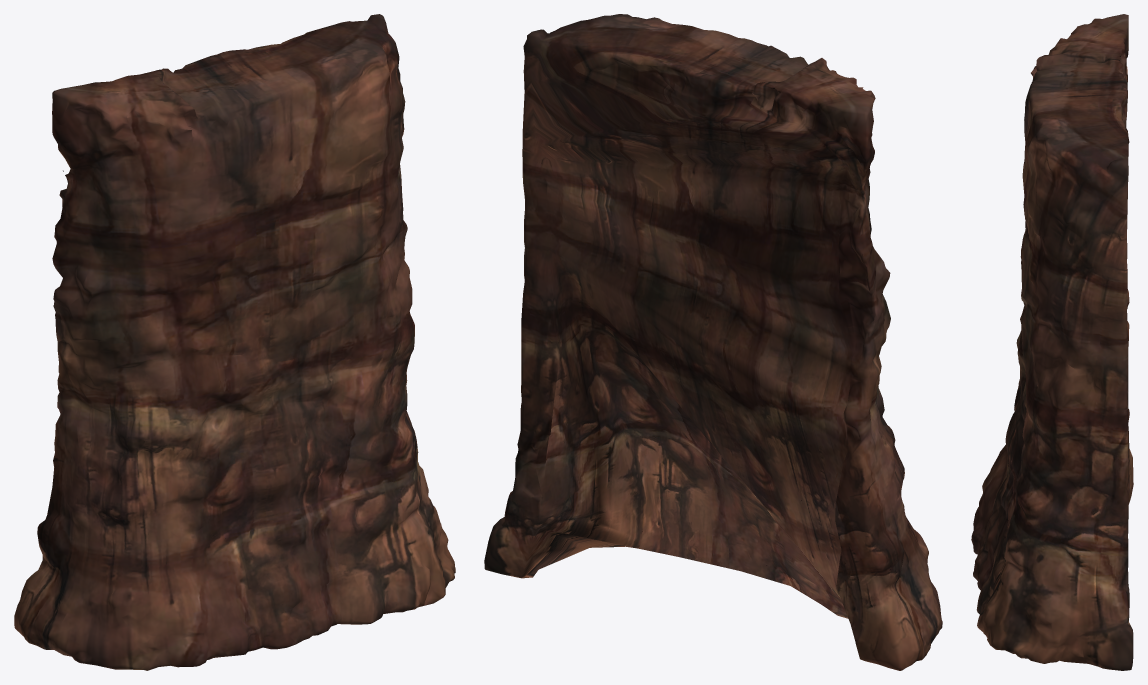
The model's file is Wall_10m.fbx.
The picture shows the model from 3 angles, left to right: view 1: azimuth 30°, elevation 25°; view 2: azimuth 150°, elevation 25°; view 3: azimuth 270°, elevation 25°; orthographic projection. The views are drawn at different scales.
Parts seen in each view (by area): view 1: Wall_10m; view 2: Wall_10m; view 3: Wall_10m.
Boxes of the visible parts, x1,y1,x2,y2 form: Wall_10m: [14, 14, 455, 670]; Wall_10m: [484, 14, 942, 670]; Wall_10m: [971, 14, 1133, 670].
Size of the model in its own units: 1225 by 1514 by 449.
1 material, 1 textured.
